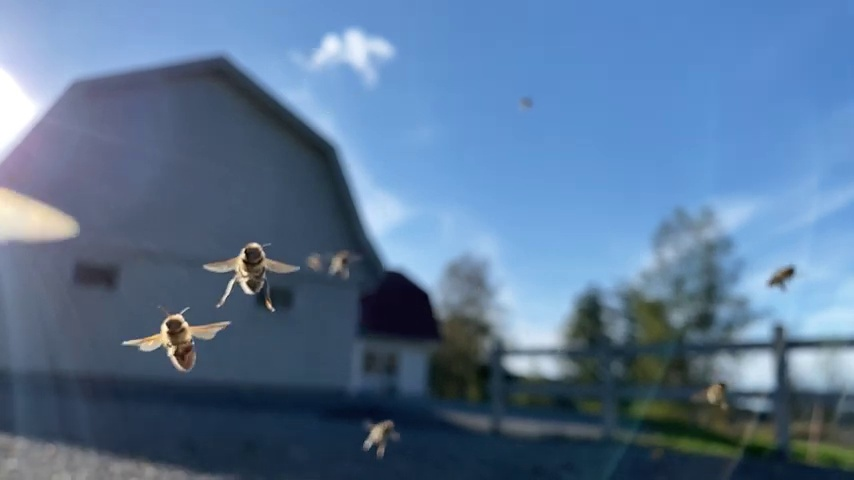insect: (199, 238, 302, 314), (120, 303, 233, 372), (361, 417, 400, 460), (765, 265, 798, 294)
